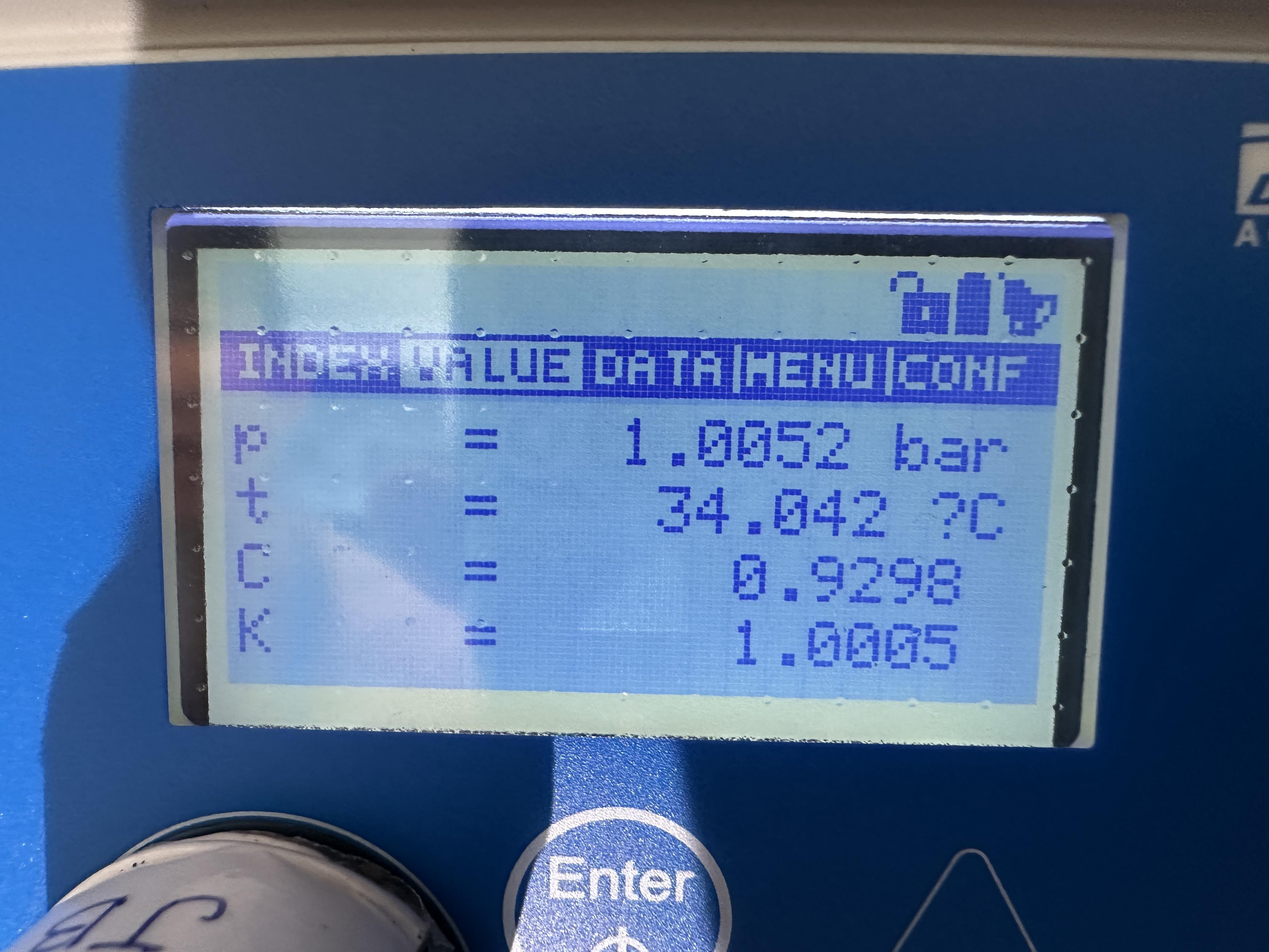digital_screen: (184, 236, 1085, 747)
